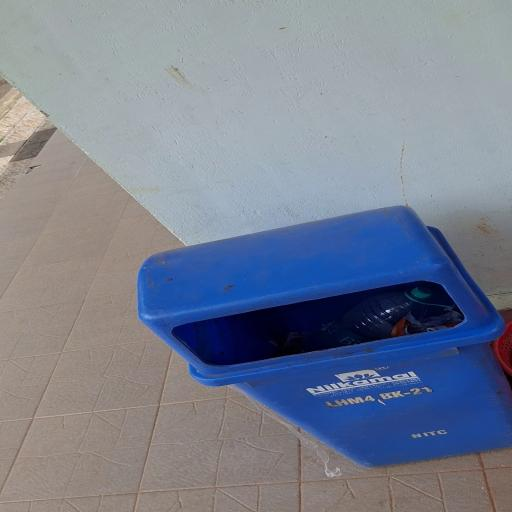Nilkamal-dustbin-detection: (137, 206, 512, 466)
